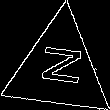N_W: (33, 45, 85, 92)
